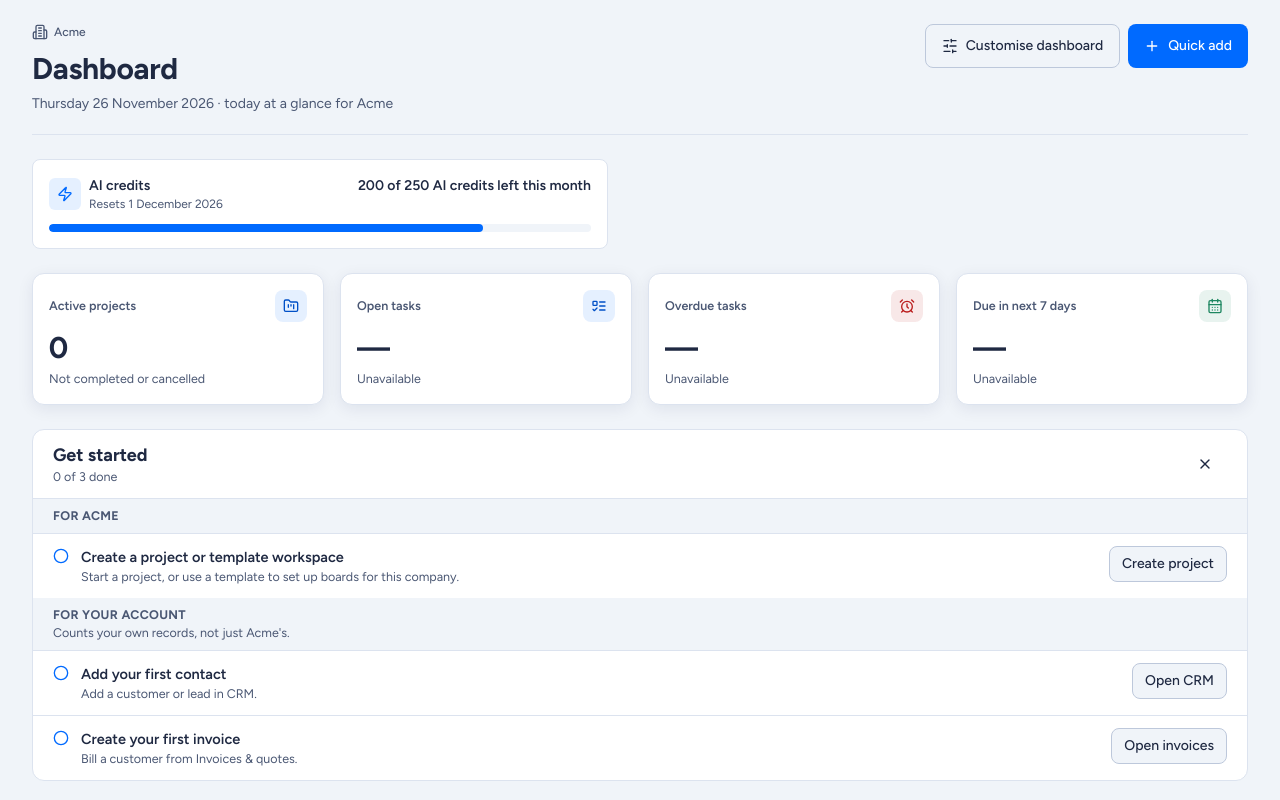
Test case: Dashboard › customisable layout › switches are labelled switches; Save stores the layout per user and company
Click the button "Customise dashboard": {"x": 1022, "y": 46} [925,24,1120,68]
(page scrolled)
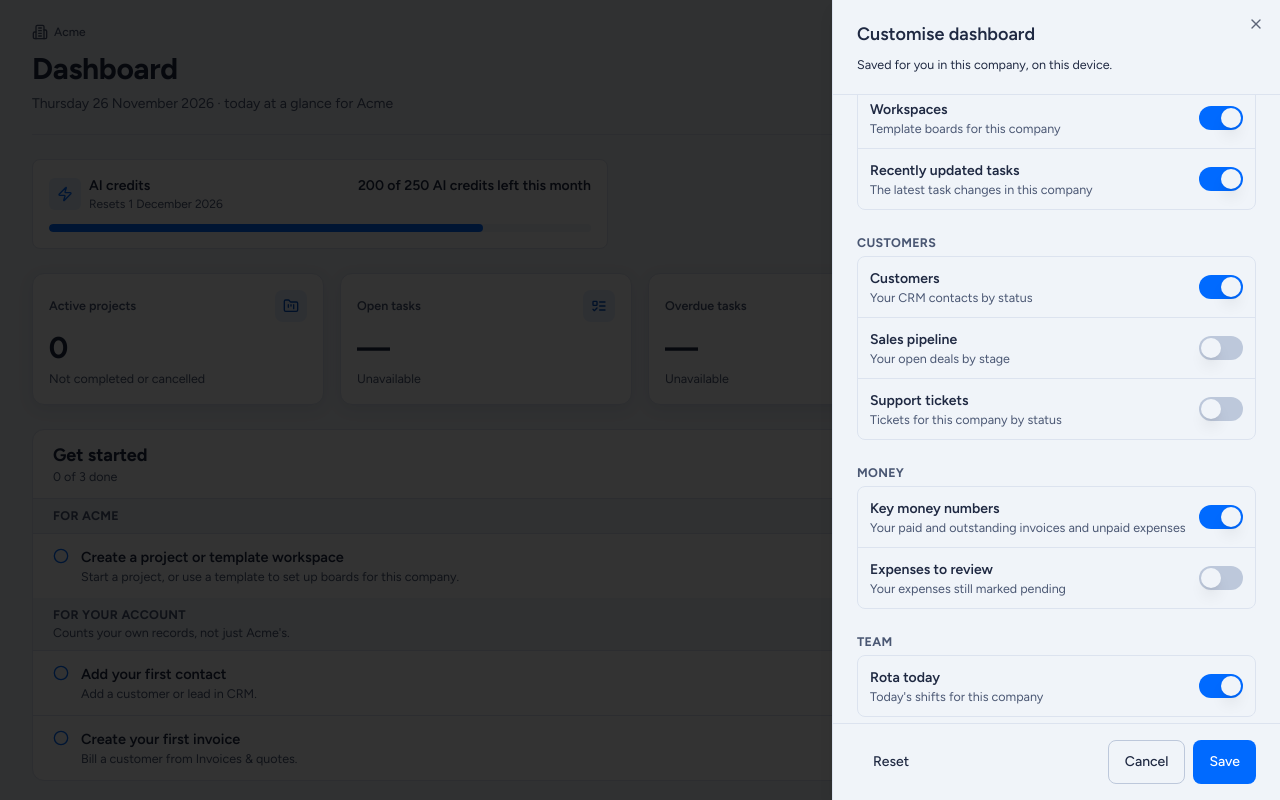
Click the switch named "Support tickets" in the row of "Support tickets": {"x": 1221, "y": 409} [1199,397,1243,421]
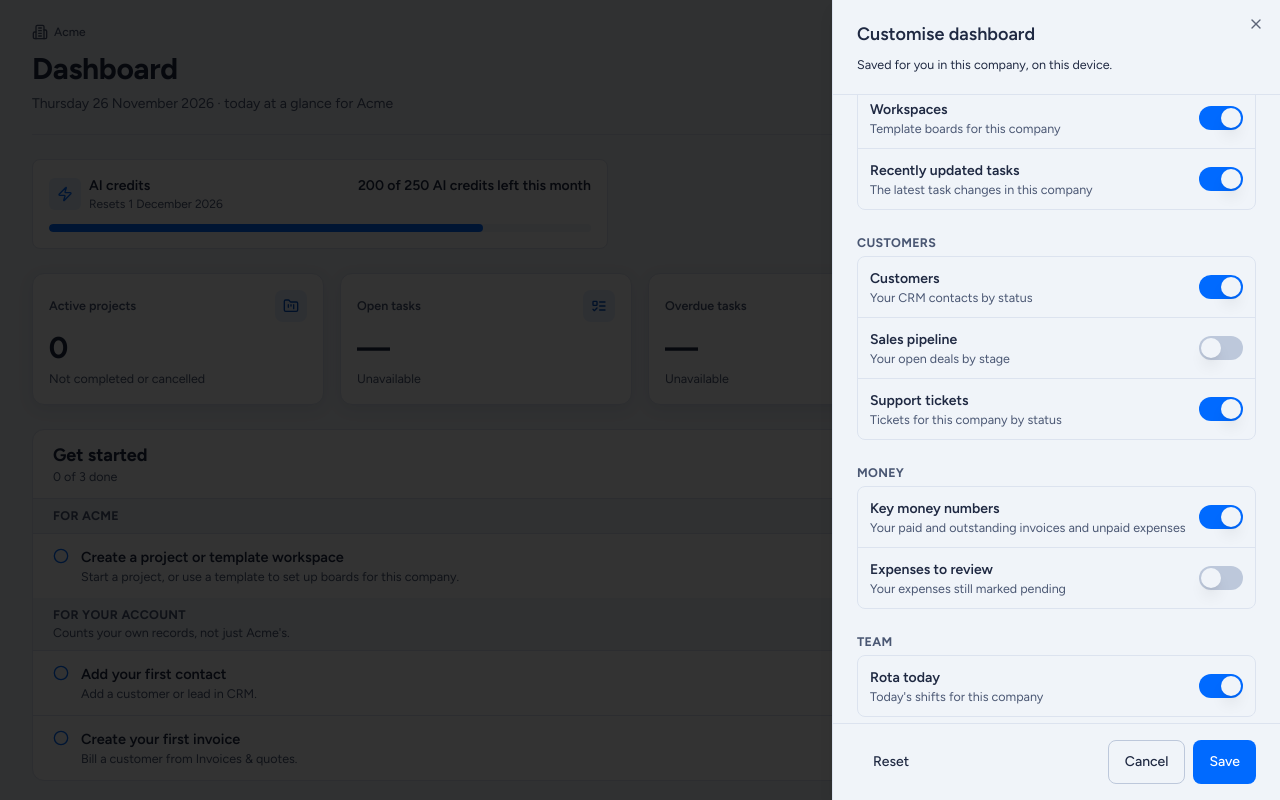
Click the 6th switch named "Key money numbers": {"x": 1221, "y": 517} [1199,505,1243,529]
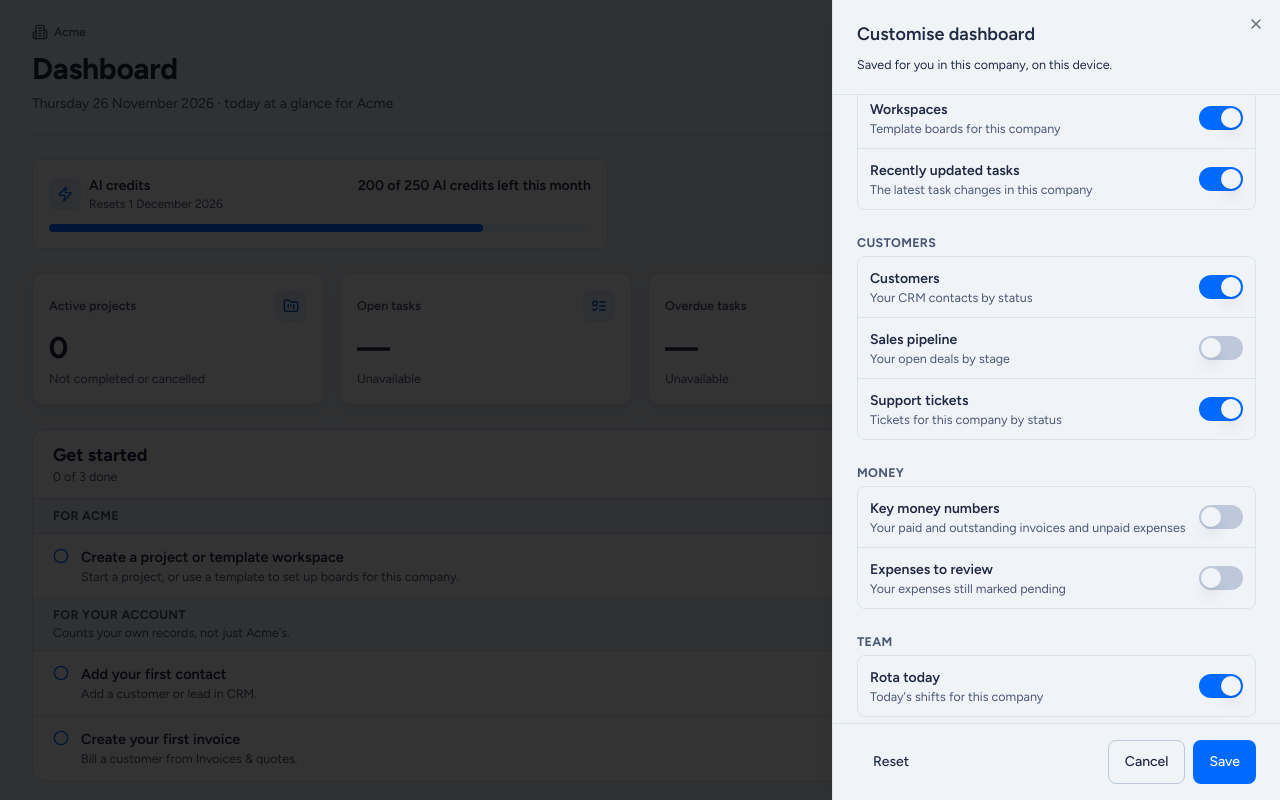
Click the button "Save": {"x": 1225, "y": 762} [1193,740,1256,784]
(page scrolled)
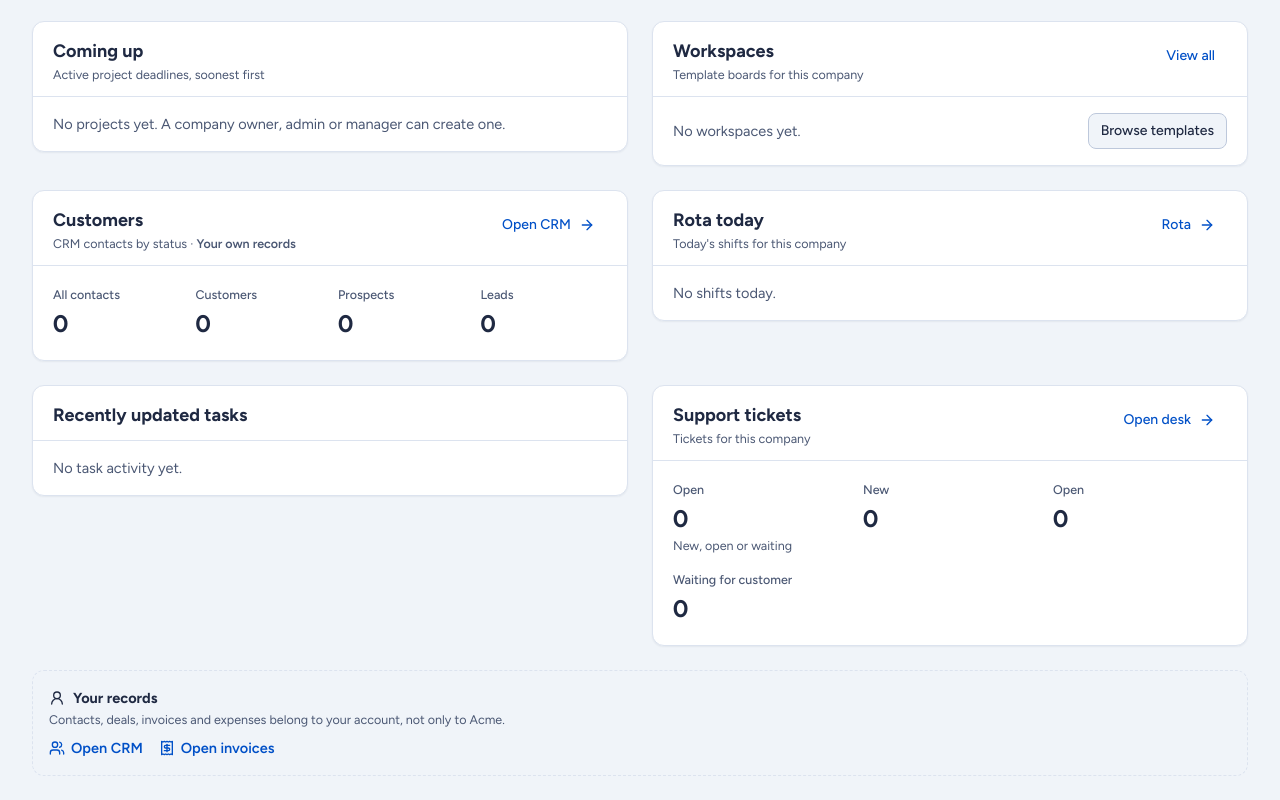
expect the element "Support tickets" is shown: met, box [652,385,1248,646]
expect the label "Key money numbers" is gone: met
